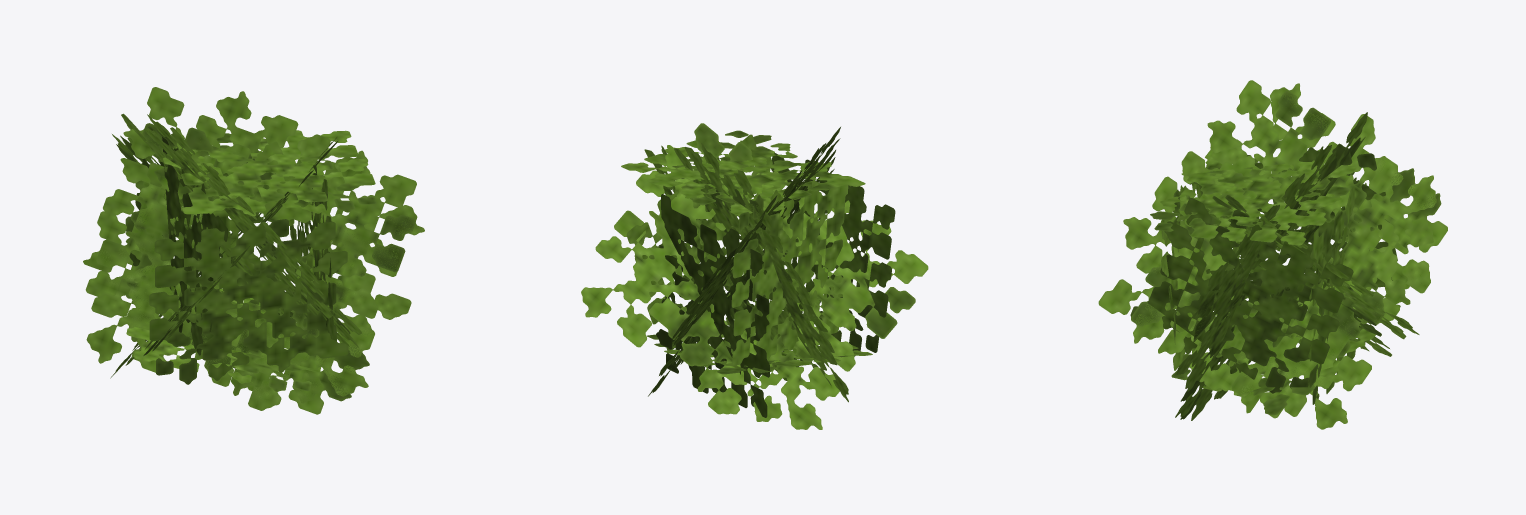
Rendered from linden_leaves_2.obj.
3 renders of one model, left to right at view 1: azimuth 30°, elevation 25°; view 2: azimuth 150°, elevation 25°; view 3: azimuth 270°, elevation 25°, orthographic. The views are drawn at different scales.
Parts seen in each view (by area): view 1: east, south, top, west, bottom, north; view 2: west, east, south, north, top, bottom; view 3: south, east, top, west, north, bottom.
Boxes of the visible parts, x1,y1,x2,y2 form: east: (83,87,424,414); south: (112,113,361,384); top: (163,130,376,216); west: (110,137,338,378); bottom: (126,288,344,391); north: (125,173,299,341); west: (581,123,928,429); east: (626,134,848,402); south: (648,127,895,396); north: (656,194,769,417); top: (621,130,865,215); bottom: (647,329,872,374); south: (1098,80,1447,429); east: (1130,112,1367,420); top: (1150,149,1356,245); west: (1173,143,1419,356); north: (1308,183,1366,404); bottom: (1171,291,1400,415).
Bounding box in the file's own units: 2.27 × 1.98 × 2.25.
